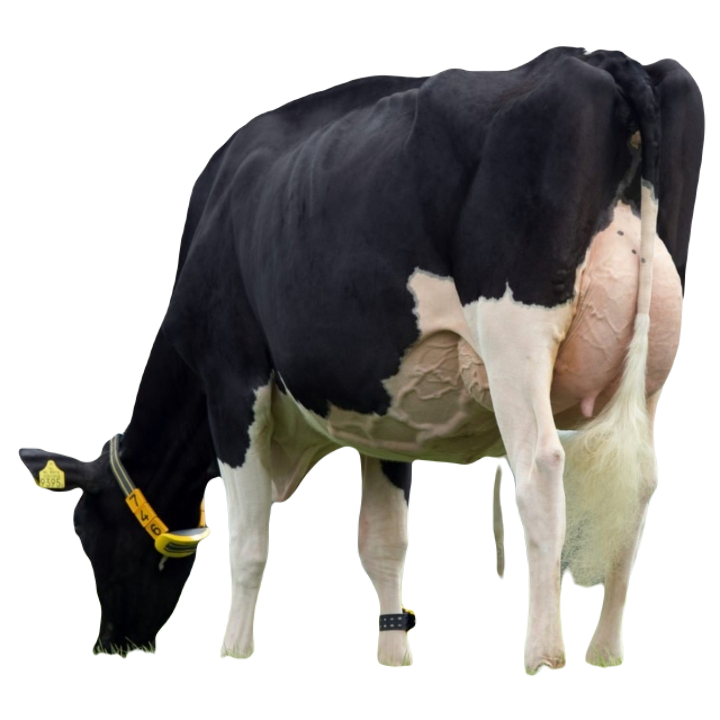Cow: (20, 45, 719, 672)
